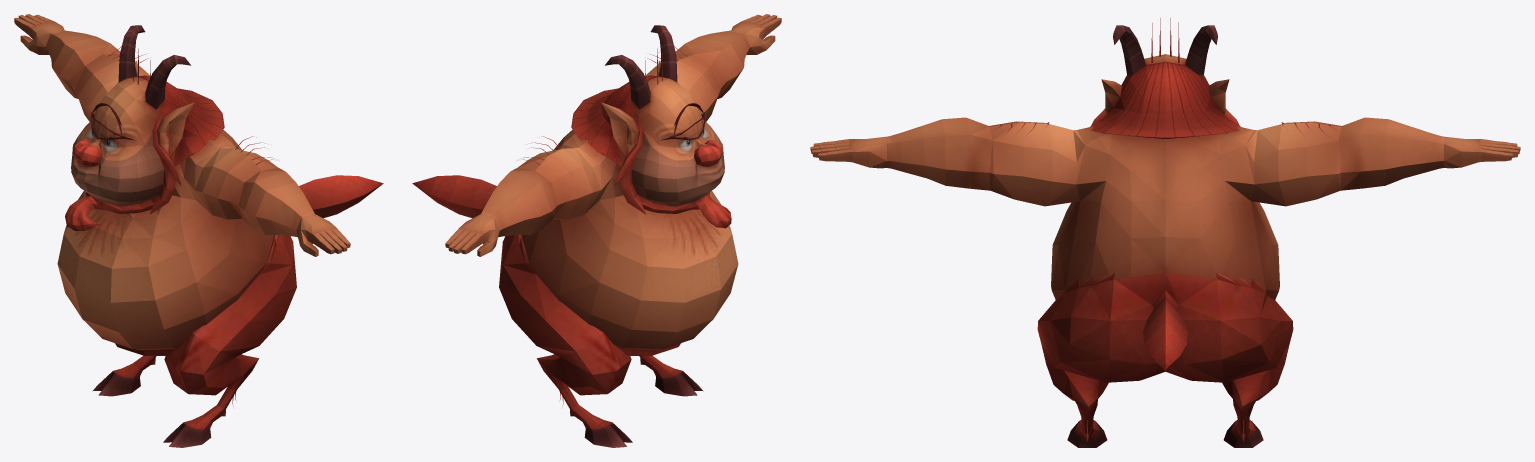
The model's file is Phil.gltf.
3 views of the same model, side by side, from view 1: azimuth 30°, elevation 25°; view 2: azimuth 150°, elevation 25°; view 3: azimuth 270°, elevation 25° (orthographic). The views are drawn at different scales.
Parts seen in each view (by area): view 1: BE8EFA63NYJ2KU66JIEDC2984; view 2: BE8EFA63NYJ2KU66JIEDC2984; view 3: BE8EFA63NYJ2KU66JIEDC2984.
Boxes of the visible parts, x1,y1,x2,y2 form: BE8EFA63NYJ2KU66JIEDC2984: [14, 14, 383, 447]; BE8EFA63NYJ2KU66JIEDC2984: [412, 14, 781, 447]; BE8EFA63NYJ2KU66JIEDC2984: [810, 18, 1520, 447].
Size of the model in its own units: 1.43 by 1.61 by 2.5.
3 materials, 3 textured.
